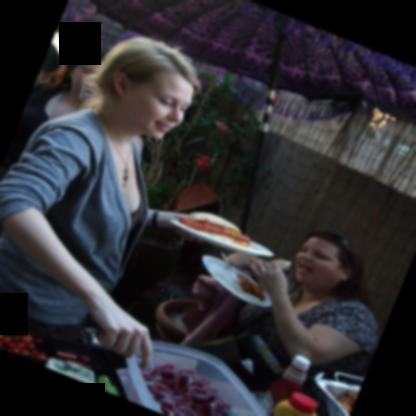handbag: (205, 309, 281, 391)
